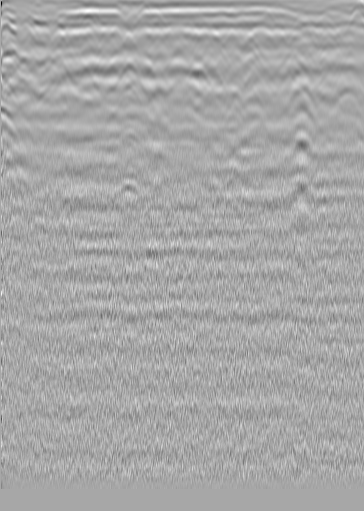가스: (102, 181, 145, 211)
상수: (25, 42, 45, 62)
오수: (287, 35, 307, 55)
우수: (168, 45, 188, 65)
